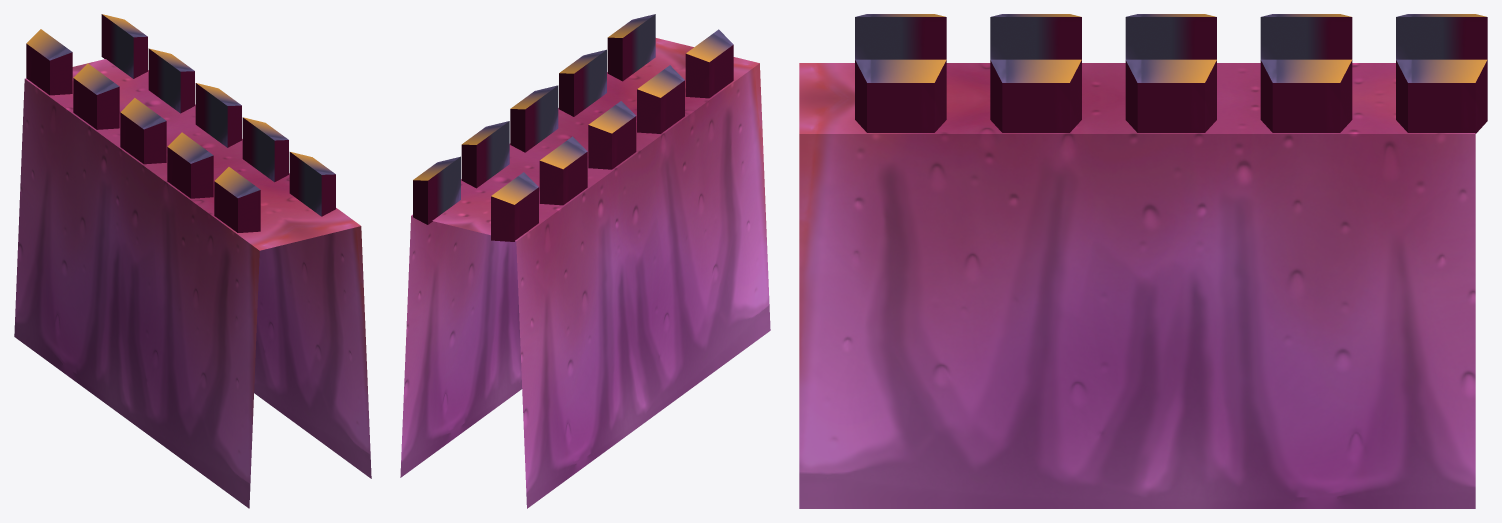
The model's file is Wall1lvl.FBX.
3 renders of one model, left to right at view 1: azimuth 30°, elevation 25°; view 2: azimuth 150°, elevation 25°; view 3: azimuth 270°, elevation 25°, orthographic. The views are drawn at different scales.
Visible parts, largest first — view 1: Wall1lvl; view 2: Wall1lvl; view 3: Wall1lvl.
Boxes of the visible parts, x1,y1,x2,y2 form: Wall1lvl: (14, 14, 371, 508); Wall1lvl: (400, 14, 770, 508); Wall1lvl: (799, 14, 1487, 508).
Size of the model in its own units: 3 by 6.98 by 10.18.
